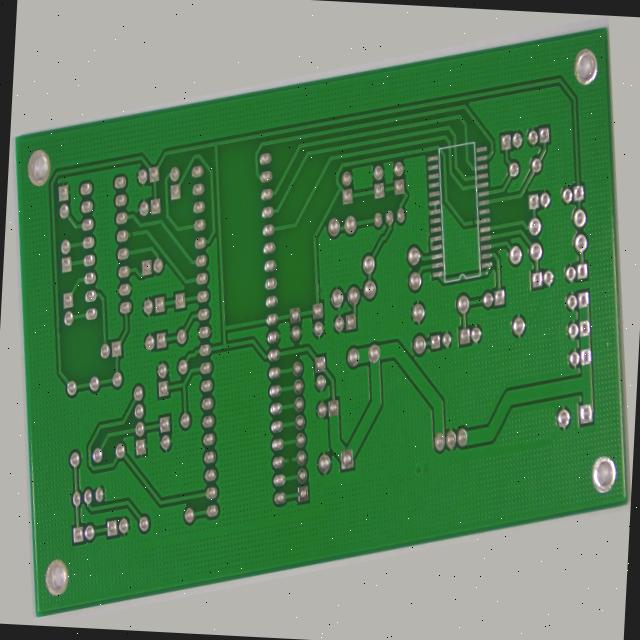open_circuit: (267, 482, 277, 496), (129, 145, 136, 157), (488, 235, 495, 246)
